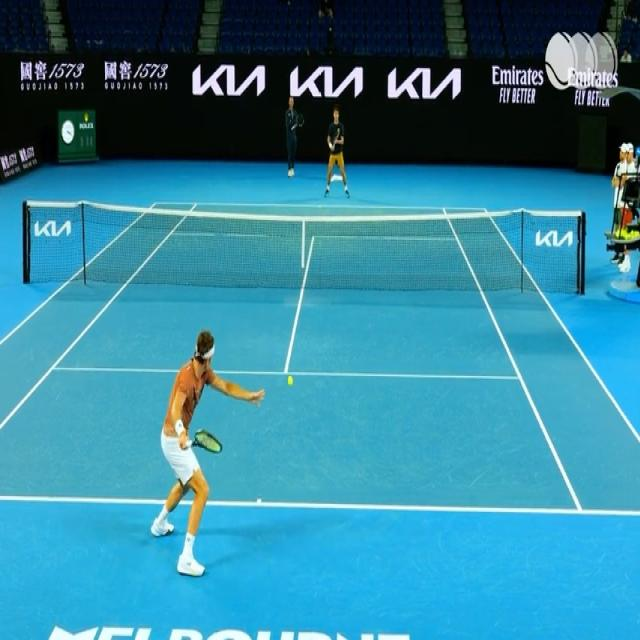forehand-ready: (152, 322, 266, 574)
